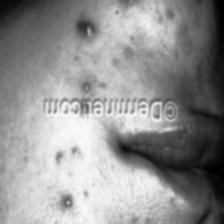Non-Cancerous Skin Condition: (56, 0, 177, 95), (32, 133, 135, 224)
